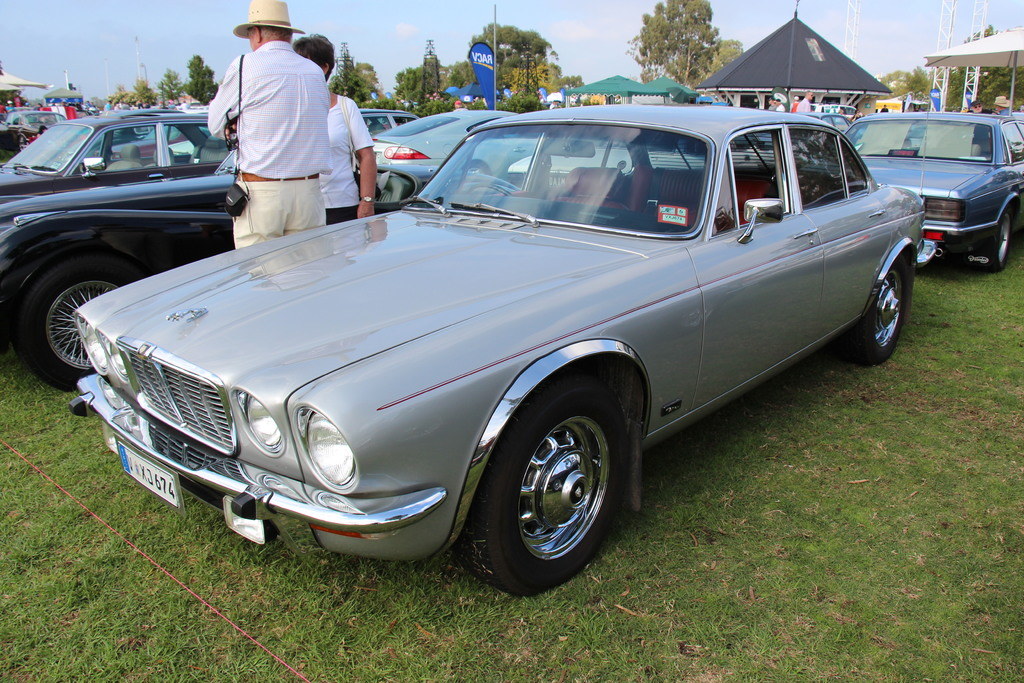Car: (43, 112, 937, 590), (0, 111, 405, 395), (839, 114, 1022, 272), (373, 111, 535, 185)
